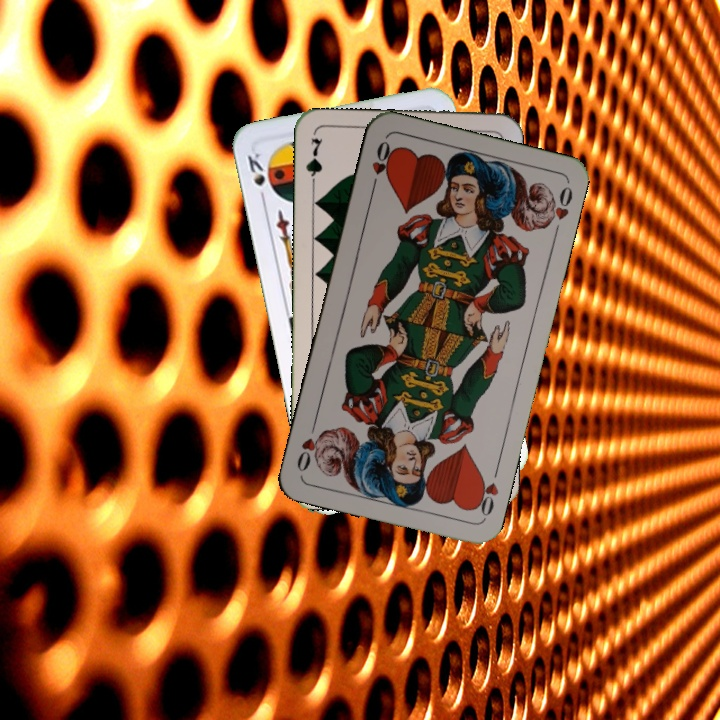G7: (302, 134, 325, 193)
HO: (470, 463, 502, 521), (367, 136, 396, 194)
SK: (243, 148, 268, 206)
